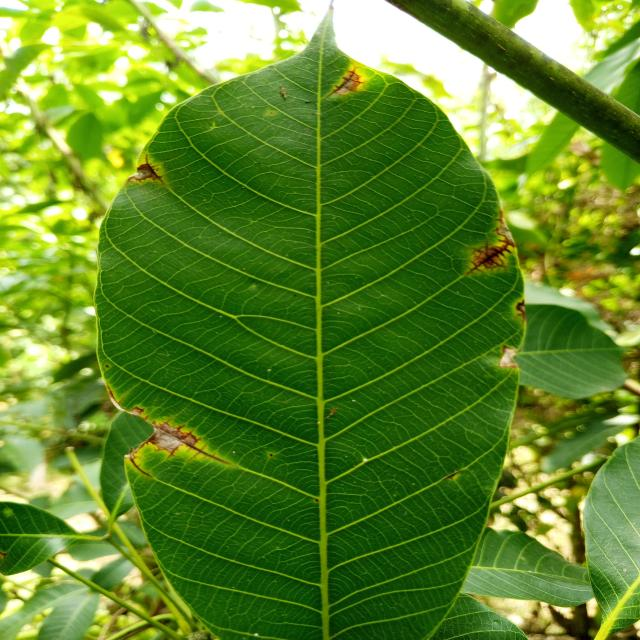Corynespora: (148, 417, 231, 466), (462, 239, 514, 274), (126, 154, 164, 186), (324, 67, 364, 97), (129, 458, 153, 477)
Leaf-Blight: (500, 216, 516, 244), (499, 348, 518, 368)
